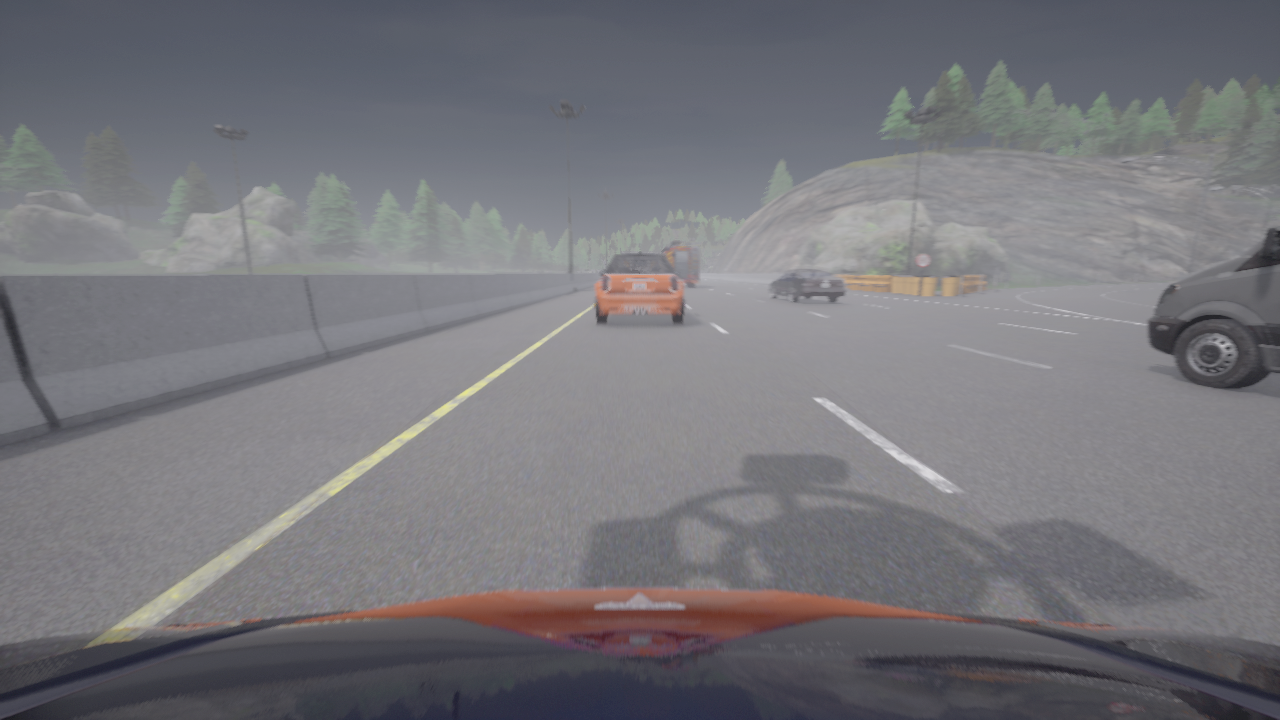cyclist: (0, 588, 1279, 719), (1148, 226, 1279, 388), (595, 252, 684, 323), (768, 269, 846, 303), (661, 241, 698, 286), (621, 252, 658, 254)
